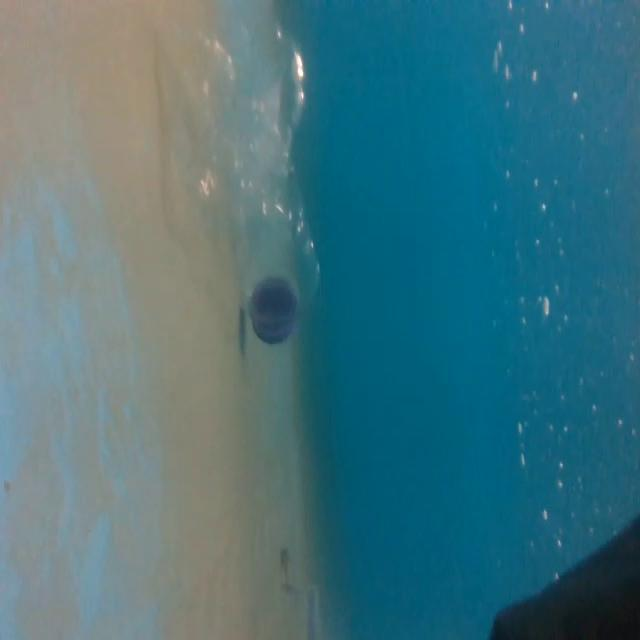plastic bottle: (168, 21, 331, 348)
